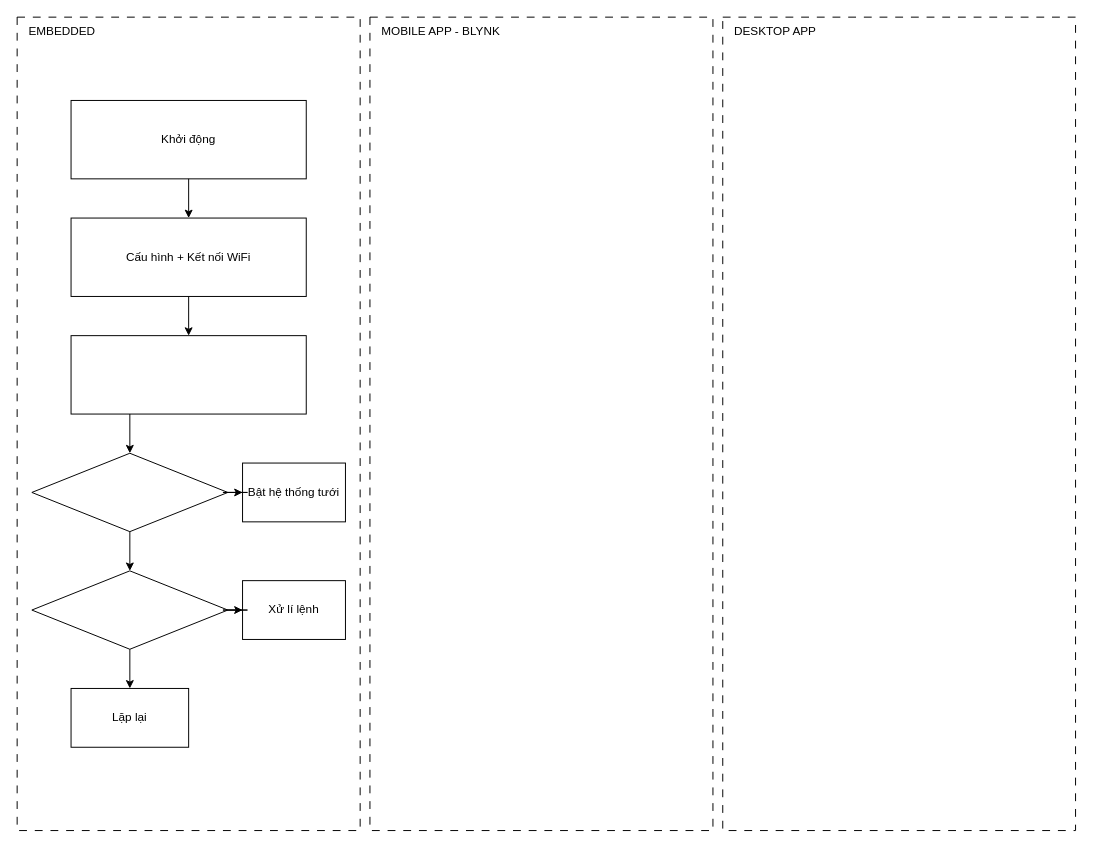
The diagram is 1093 pixels wide and 848 high, and some of its shapes have lost their labels. Each missing label, with the centre of its shape:
Kiểm tra nhiệt độ, độ ẩm: pixel 129 492
Nếu có lệnh từ Blynk: pixel 129 609
START Blynk Server: pixel 188 374
